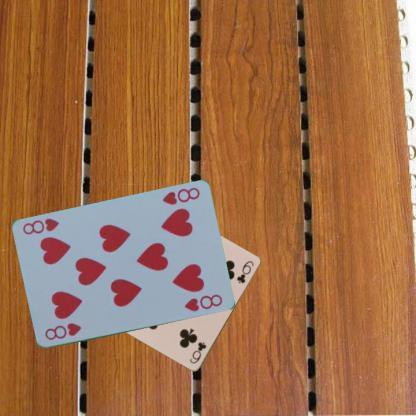6c: (187, 340, 208, 366)
8h: (160, 185, 202, 207), (42, 320, 83, 341)
